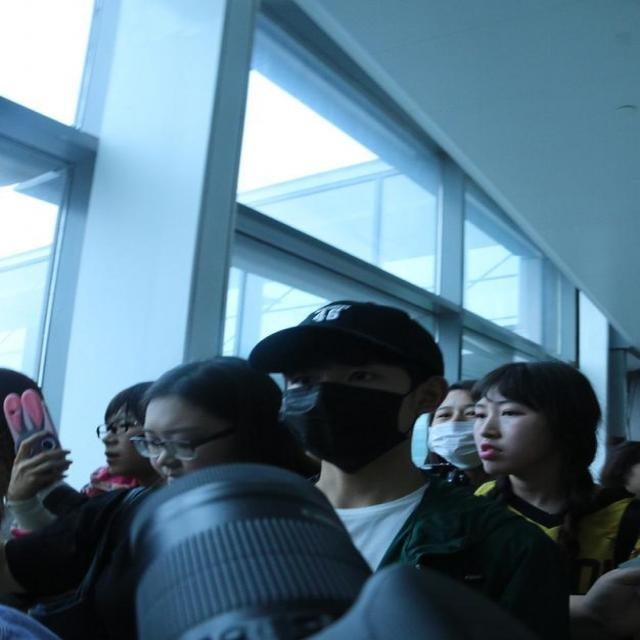mask: (287, 346, 408, 467), (424, 388, 478, 464)
nomask: (144, 400, 234, 499), (473, 382, 549, 472), (97, 399, 148, 472)
